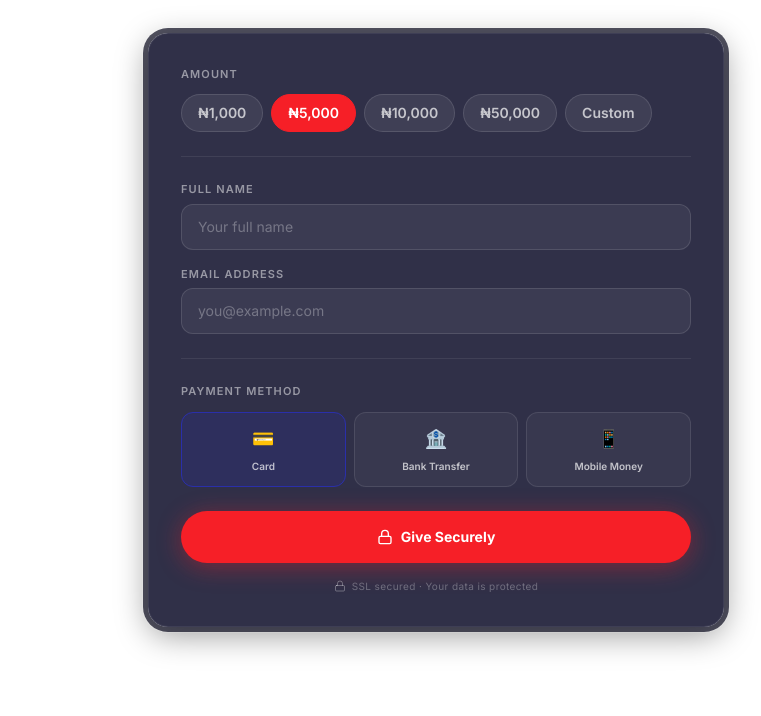
GiveSection › shows name validation error on empty submit
(page scrolled)
What coordinates should you click on to do the following:
click the button "Give Securely"
I would click on:
 (436, 536)
Its box is [181, 510, 691, 562].
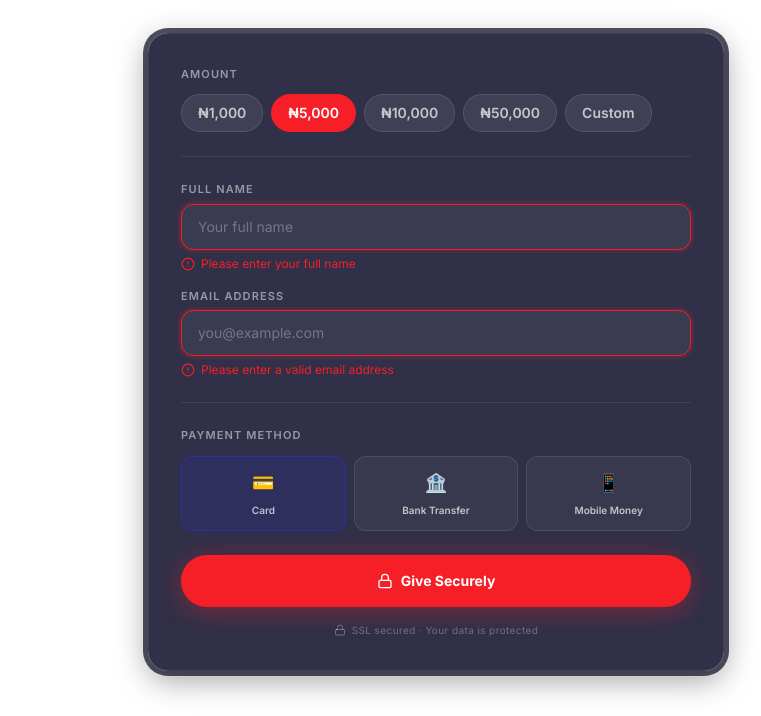
Check: the text "Please enter your full name" is shown, box [181, 256, 356, 270]
